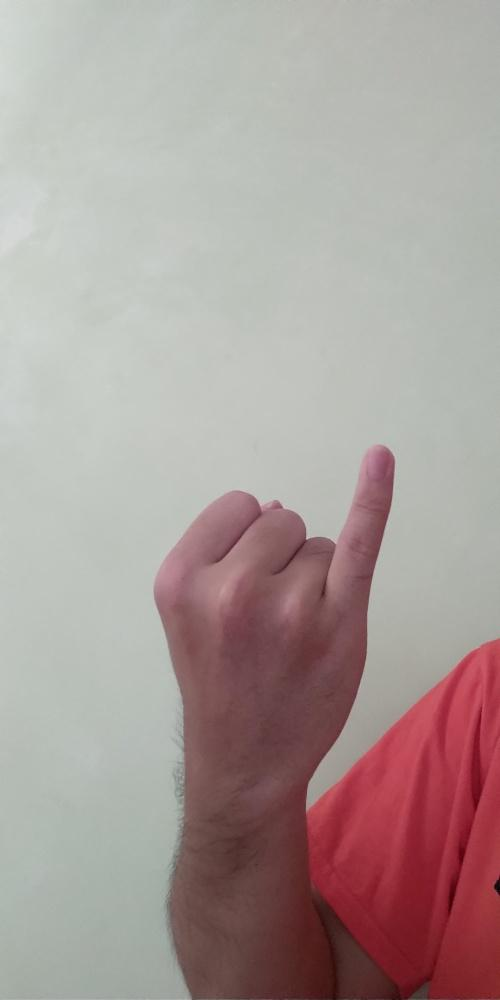j: (151, 440, 396, 799)
